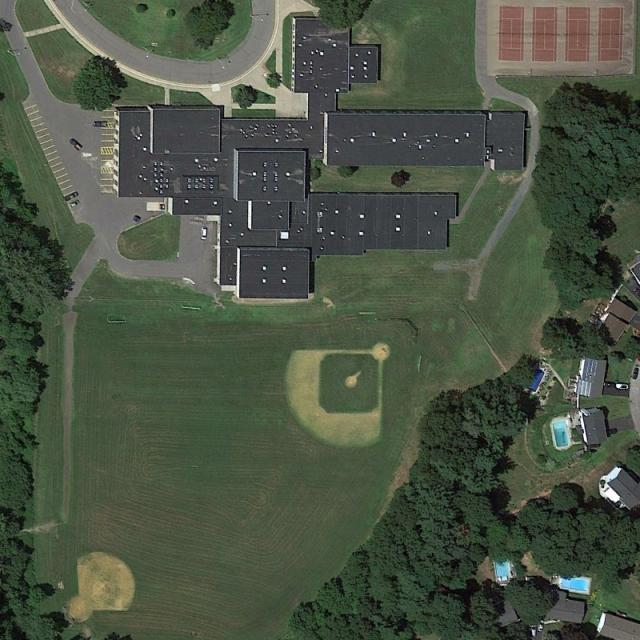vehicle: (68, 138, 82, 150), (64, 191, 80, 201), (632, 366, 639, 379), (93, 121, 107, 127), (201, 227, 207, 240), (538, 619, 544, 631), (70, 200, 80, 206)
